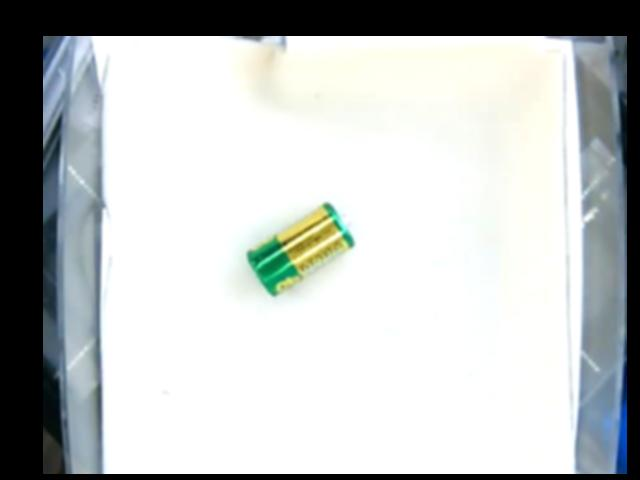Battery: (245, 200, 357, 297)
